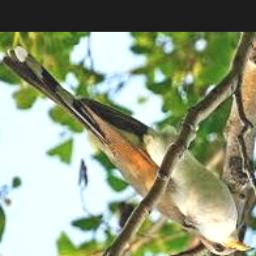Cuckoo: (3, 45, 253, 255)
